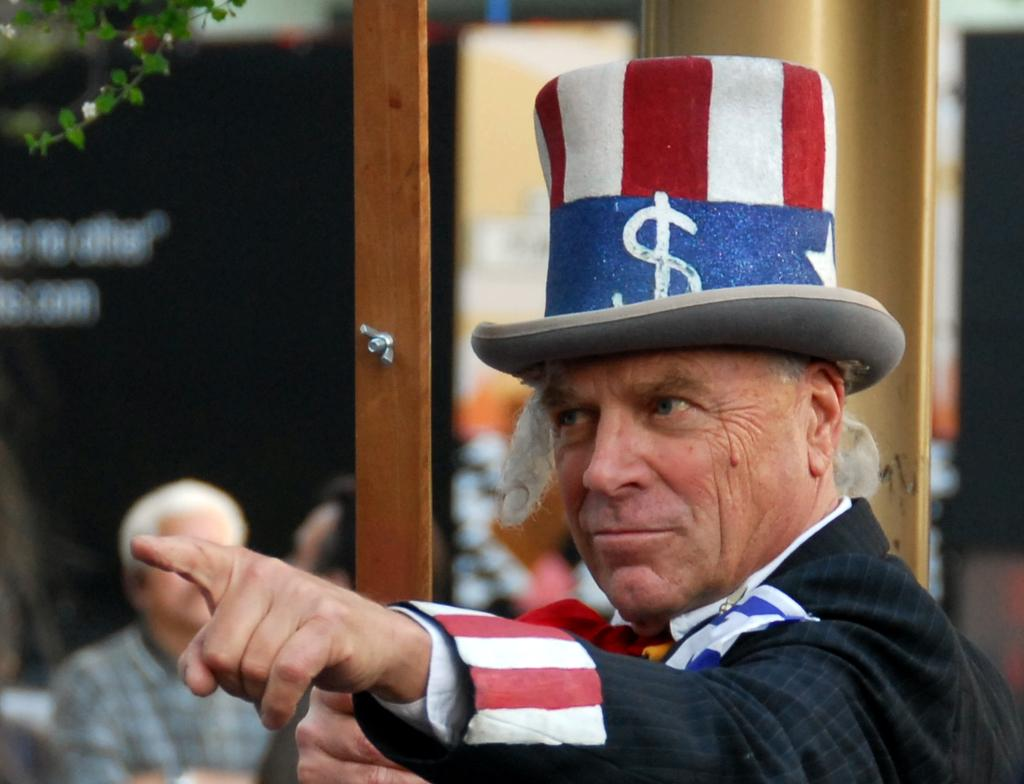Hat: (468, 54, 904, 399)
